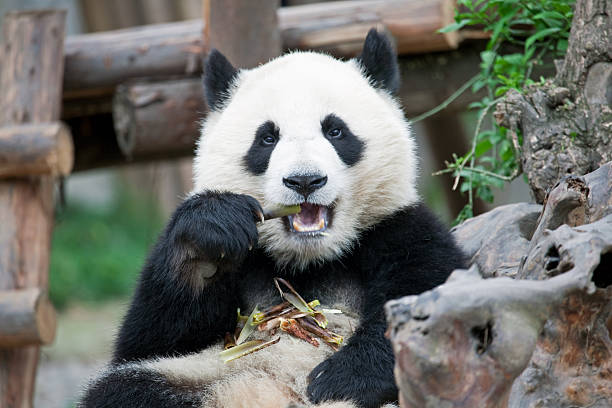panda: (176, 24, 439, 280)
